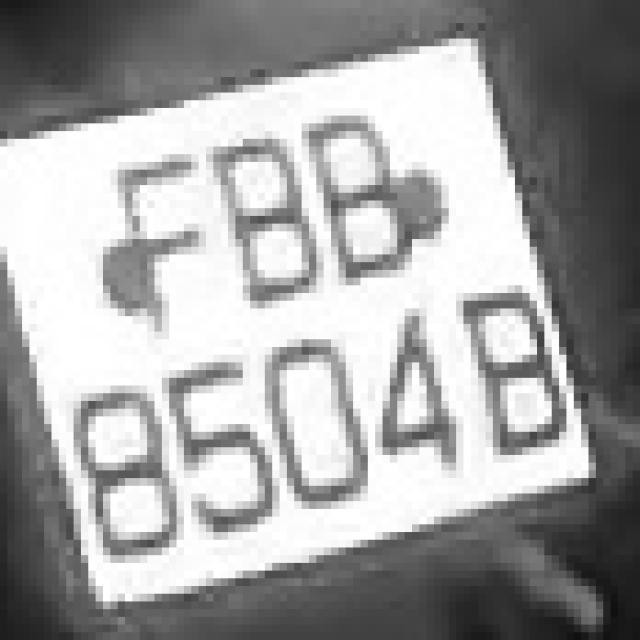0: (258, 316, 375, 532)
4: (346, 286, 471, 502)
5: (154, 347, 287, 547)
8: (37, 354, 184, 570)
B: (441, 270, 596, 486), (279, 77, 426, 301), (192, 108, 338, 324)
F: (96, 131, 213, 316)
